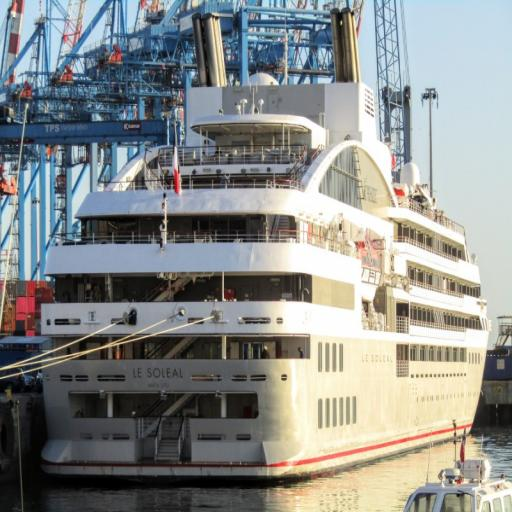cruises: (43, 30, 484, 477)
